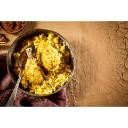briyani: (19, 39, 66, 89)
